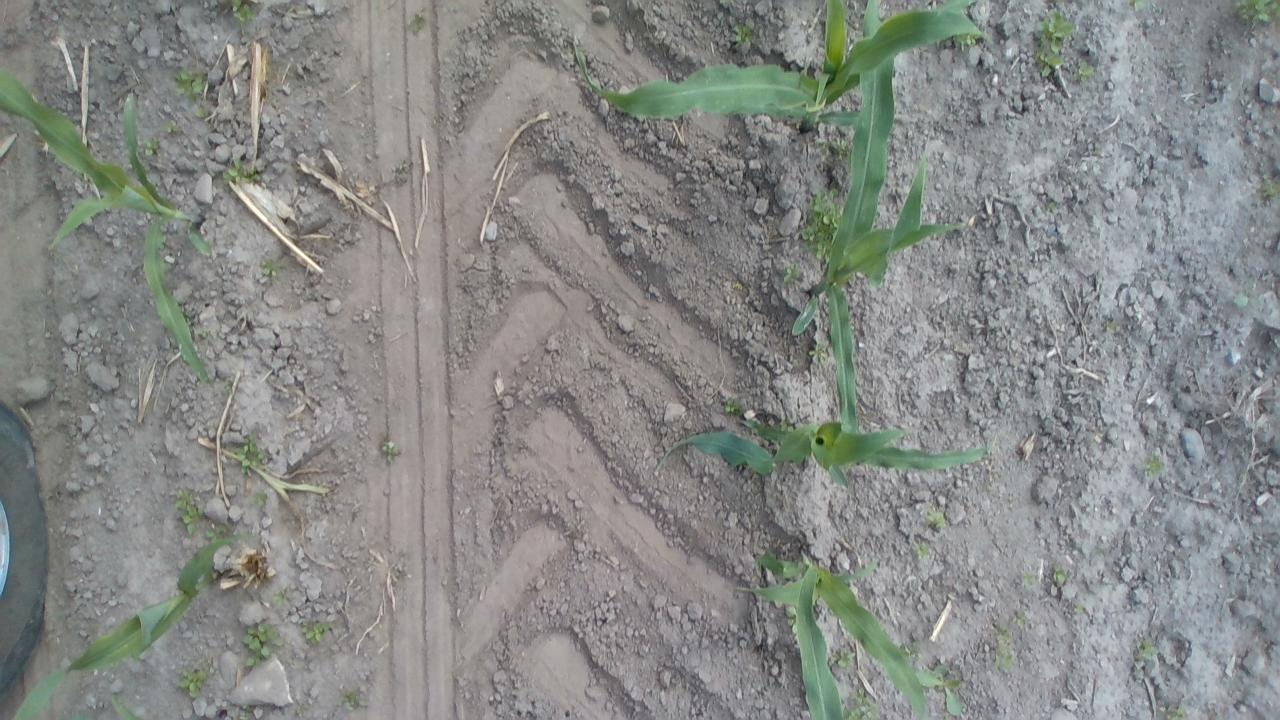Maize: (790, 0, 970, 452), (0, 59, 222, 390), (570, 2, 986, 132), (11, 524, 264, 718), (738, 535, 967, 720), (646, 407, 999, 488)
Weeds: (799, 188, 847, 262), (1030, 6, 1074, 78), (238, 620, 284, 674), (926, 666, 971, 720), (172, 66, 215, 119), (984, 622, 1022, 678), (170, 488, 210, 540), (236, 435, 280, 474), (220, 154, 262, 190), (173, 666, 214, 702), (1236, 0, 1278, 32), (221, 1, 260, 34), (844, 688, 882, 720), (1230, 280, 1266, 312), (300, 616, 335, 646), (816, 135, 854, 161), (255, 256, 286, 286), (403, 11, 434, 40), (831, 641, 859, 673), (1133, 634, 1161, 665), (1142, 454, 1172, 482), (912, 538, 939, 569), (808, 339, 832, 371), (141, 136, 170, 162), (340, 686, 369, 712), (267, 587, 299, 610), (732, 20, 760, 46), (779, 260, 806, 286), (1156, 699, 1190, 719), (898, 636, 922, 664), (1256, 172, 1278, 202), (1012, 610, 1038, 635), (1048, 563, 1072, 590), (924, 510, 953, 532), (950, 31, 979, 53), (378, 437, 402, 463), (218, 380, 246, 402), (1074, 62, 1098, 86), (161, 114, 183, 138), (1018, 566, 1040, 590), (250, 488, 270, 514), (1065, 597, 1087, 620), (1100, 318, 1125, 337), (720, 395, 744, 414), (194, 325, 216, 341), (1126, 0, 1152, 12), (777, 418, 795, 432)
